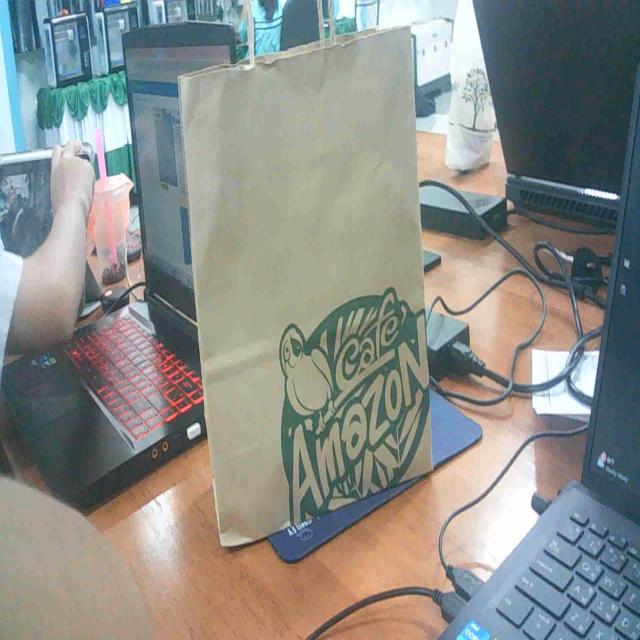bag: (159, 0, 452, 559)
